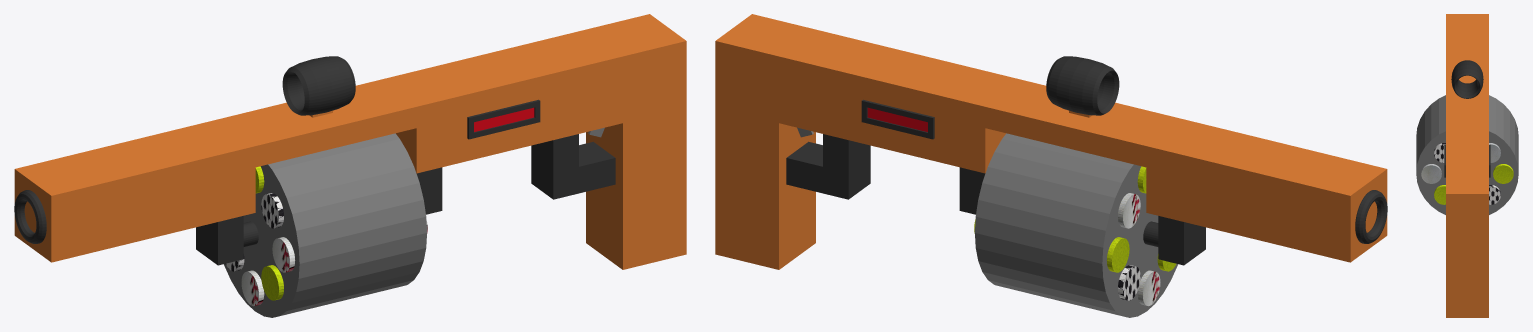
File: BallGatling.glb
3 views of the same model, side by side, from view 1: azimuth 30°, elevation 25°; view 2: azimuth 150°, elevation 25°; view 3: azimuth 270°, elevation 25° (orthographic). The views are drawn at different scales.
Parts seen in each view (by area): view 1: Cube.006, Cylinder, Cube.003, Mire, Cube.009, CadrantLife, ForwardPart, Cube.008, Cylinder.005, Cylinder.008, Cylinder.004, Cylinder.006 (+1 smaller); view 2: Cube.006, Cylinder, Cube.003, Mire, Cube.009, CadrantLife, ForwardPart, Cube.008, Cylinder.003, Cylinder.007, Cylinder.004, Cylinder.002 (+1 smaller); view 3: Cube.006, Cylinder, Mire, Cylinder.003, Cylinder.005, Cylinder.007, Cylinder.008, Cylinder.002, Cylinder.006, CadrantLife.
Part boxes in pixels (box(x1,y1,x2,y2)): Cube.006: box(14, 14, 686, 269); Cylinder: box(224, 133, 426, 317); Cube.003: box(531, 134, 615, 199); Mire: box(282, 56, 355, 115); Cube.009: box(196, 216, 243, 265); CadrantLife: box(467, 99, 540, 139); ForwardPart: box(14, 190, 46, 243); Cube.008: box(416, 167, 442, 214); Cylinder.005: box(272, 219, 427, 272); Cylinder.008: box(261, 265, 283, 300); Cylinder.004: box(241, 270, 264, 306); Cylinder.006: box(261, 193, 283, 228); Cube.006: box(715, 14, 1387, 269); Cylinder: box(975, 133, 1177, 317); Cube.003: box(786, 134, 870, 199); Mire: box(1046, 56, 1119, 115); Cube.009: box(1158, 216, 1205, 265); CadrantLife: box(861, 99, 934, 139); ForwardPart: box(1355, 190, 1387, 243); Cube.008: box(959, 167, 985, 214); Cylinder.003: box(974, 219, 1129, 272); Cylinder.007: box(1118, 265, 1140, 300); Cylinder.004: box(1137, 270, 1160, 306); Cylinder.002: box(1118, 193, 1140, 228); Cube.006: box(1446, 14, 1488, 317); Cylinder: box(1416, 95, 1518, 214); Mire: box(1451, 60, 1483, 98); Cylinder.003: box(1493, 164, 1513, 183); Cylinder.005: box(1421, 164, 1441, 183); Cylinder.007: box(1489, 185, 1500, 204); Cylinder.008: box(1434, 185, 1445, 204); Cylinder.002: box(1489, 143, 1500, 162); Cylinder.006: box(1434, 143, 1445, 162); CadrantLife: box(1444, 145, 1490, 177).
Size of the model in its own units: 5.04 by 1.99 by 1.2.
7 materials, 3 textured.
